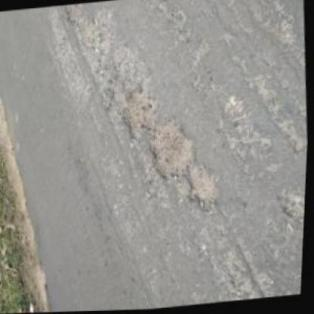Hueco: (147, 115, 200, 184), (119, 86, 162, 140), (187, 164, 226, 213)
